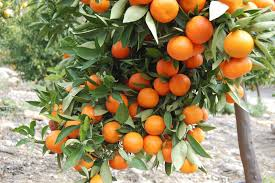orange: (223, 30, 254, 58), (220, 57, 255, 81), (168, 37, 193, 61), (120, 130, 144, 155), (168, 73, 190, 96), (144, 113, 167, 135), (182, 103, 204, 125), (111, 39, 134, 60), (102, 120, 122, 143), (138, 89, 161, 109), (143, 134, 162, 157)
